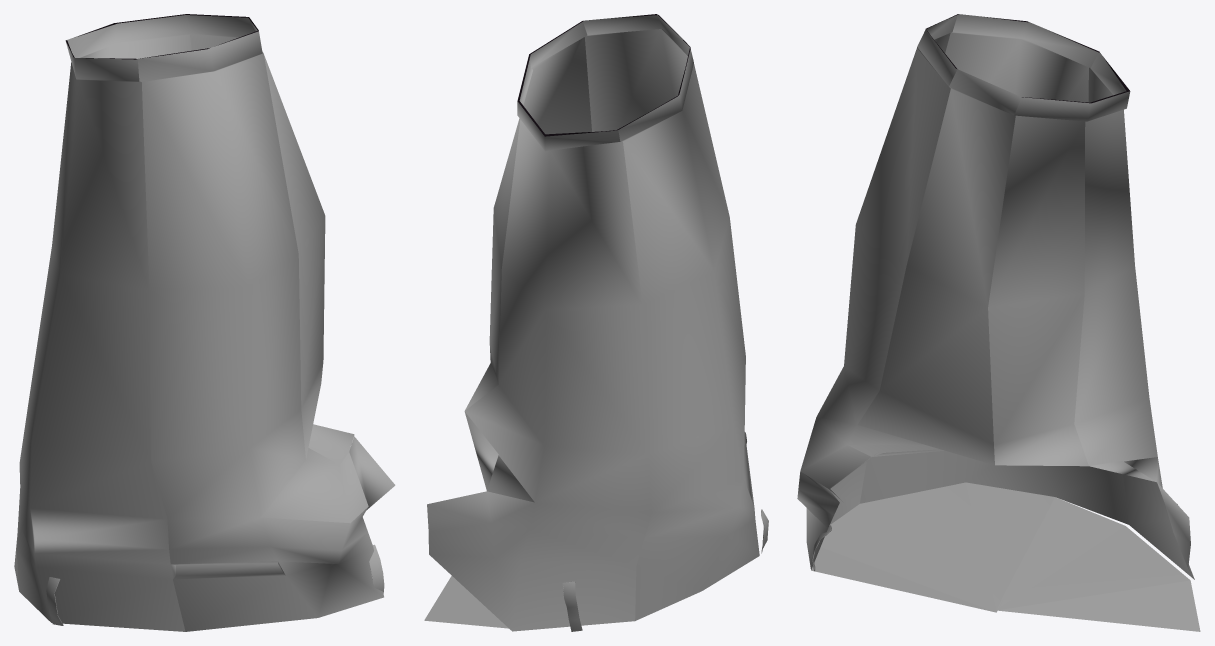
File: left_up_leg.glb
3 views of the same model, side by side, from view 1: azimuth 30°, elevation 25°; view 2: azimuth 150°, elevation 25°; view 3: azimuth 270°, elevation 25° (orthographic). The views are drawn at different scales.
Visible parts, largest first — view 1: shorts-grey_LEFT_UP_LEG; view 2: shorts-grey_LEFT_UP_LEG; view 3: shorts-grey_LEFT_UP_LEG.
Part boxes in pixels (left/top/right/bottom): shorts-grey_LEFT_UP_LEG: left=14, top=14, right=395, bottom=631; shorts-grey_LEFT_UP_LEG: left=424, top=14, right=768, bottom=631; shorts-grey_LEFT_UP_LEG: left=797, top=14, right=1200, bottom=631.
Bounding box in the file's own units: 0.257 × 0.5014 × 0.3317.
1 material, 1 textured.
